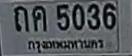0: (71, 3, 84, 29)
3: (87, 3, 99, 29)
5: (56, 4, 68, 30)
6: (102, 2, 115, 29)
A04: (32, 5, 46, 31)
A22: (13, 5, 28, 31)
